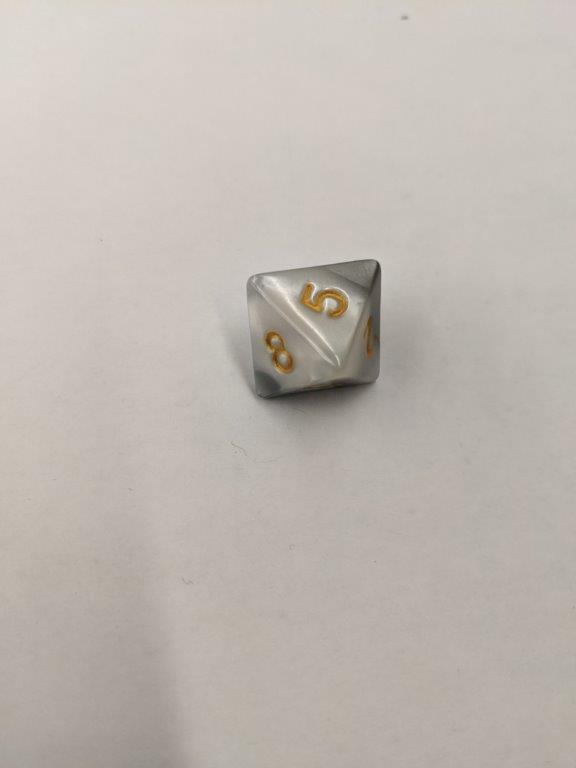d8-5: (243, 258, 383, 400)
